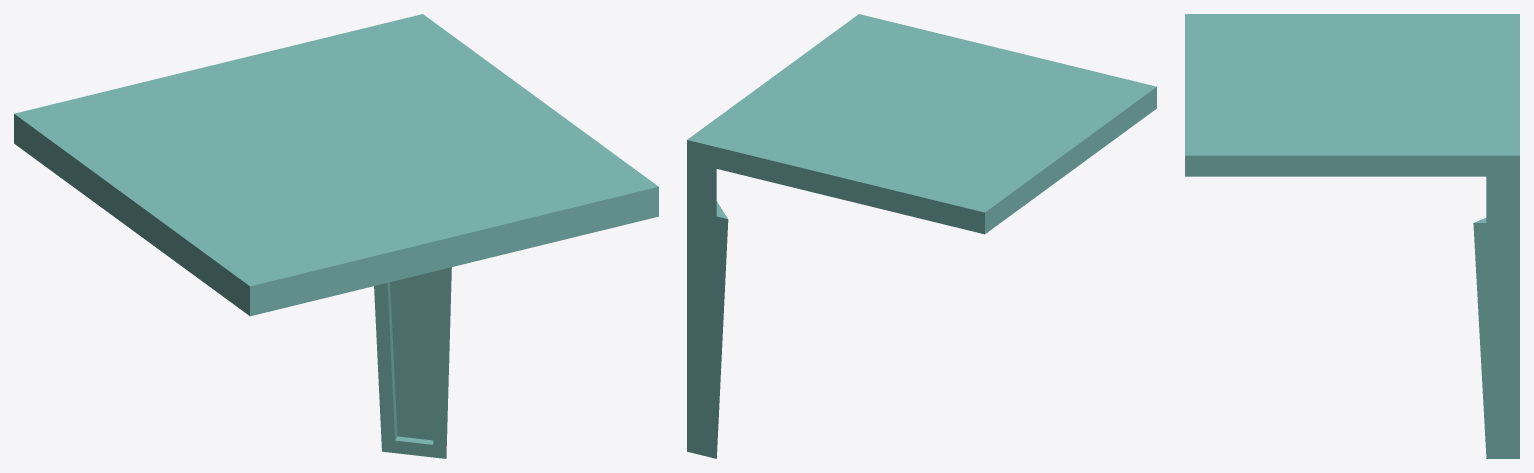
File: EspacioInicialEsquinaAperturaInteriorBajoNI.gltf
The picture shows the model from 3 angles, left to right: view 1: azimuth 30°, elevation 25°; view 2: azimuth 150°, elevation 25°; view 3: azimuth 270°, elevation 25°; orthographic projection. The views are drawn at different scales.
Visible parts, largest first — view 1: techo bajo.25; view 2: techo bajo.25; view 3: techo bajo.25.
Boxes of the visible parts, <box> form: techo bajo.25: <box>14,14,658,458</box>; techo bajo.25: <box>687,14,1156,458</box>; techo bajo.25: <box>1185,14,1519,458</box>.
Bounding box in the file's own units: 2 × 2 × 2.
